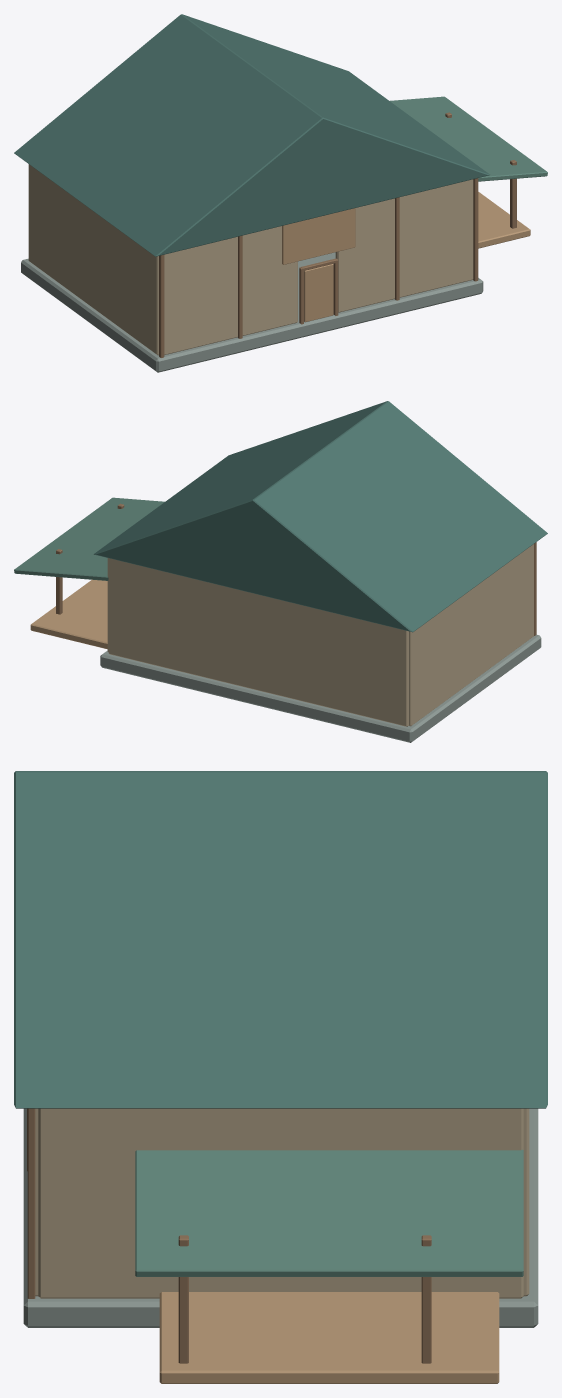
The model's file is LumenFarmBarn.glb.
The picture shows the model from 3 angles, top to bottom: view 1: azimuth 30°, elevation 25°; view 2: azimuth 150°, elevation 25°; view 3: azimuth 270°, elevation 25°; orthographic projection. The views are drawn at different scales.
Visible parts, largest first — view 1: LumenFarmBarn; view 2: LumenFarmBarn; view 3: LumenFarmBarn.
Boxes of the visible parts, x1=… form: LumenFarmBarn: x1=14, y1=14, x2=547, y2=372; LumenFarmBarn: x1=14, y1=401, x2=547, y2=742; LumenFarmBarn: x1=14, y1=771, x2=547, y2=1383.
Bounding box in the file's own units: 37.89 × 18.56 × 22.
